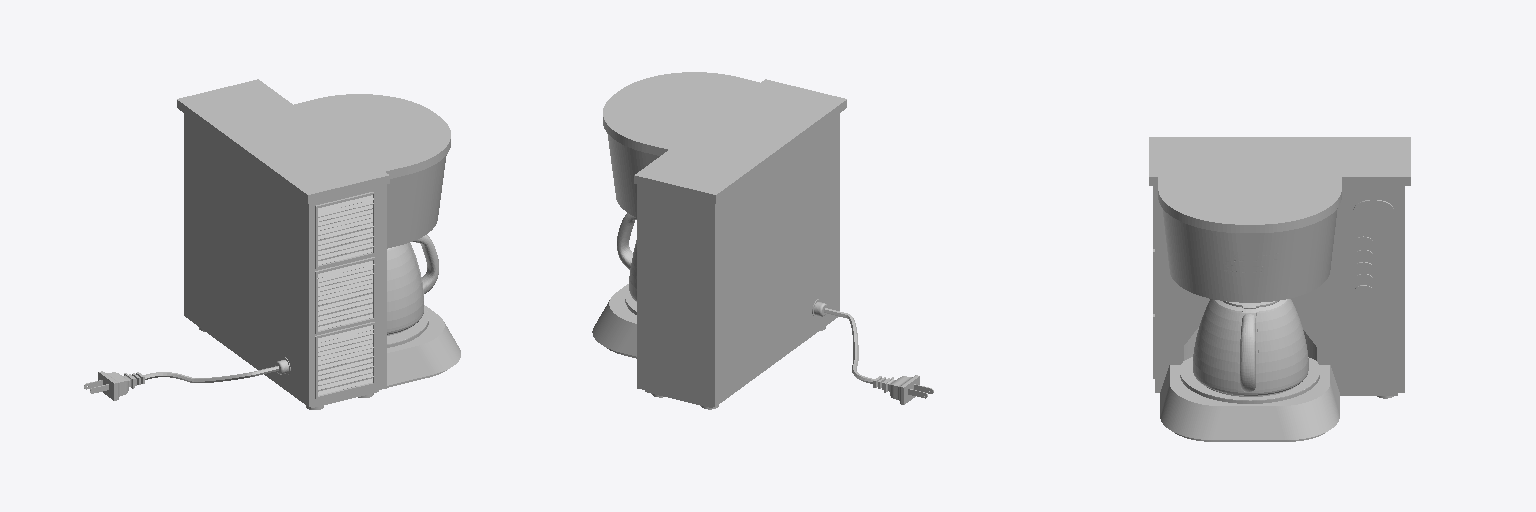
The model's file is CoffeeMaker.obj.
3 views of the same model, side by side, from view 1: azimuth 30°, elevation 25°; view 2: azimuth 150°, elevation 25°; view 3: azimuth 270°, elevation 25° (orthographic).
Visible parts, largest first — view 1: Cube, Cube.005_Cube.020, Cube.003_Cube.004, Cube.006_Cube.023, BezierCurve; view 2: Cube, Cube.006_Cube.023, Cube.003_Cube.004, BezierCurve; view 3: Cube, Cube.003_Cube.004, Cylinder.005_Cylinder.011.
Part boxes in pixels (x1,y1,x2,y2): Cube: (177, 79, 460, 409); Cube.005_Cube.020: (315, 192, 374, 398); Cube.003_Cube.004: (387, 235, 438, 335); Cube.006_Cube.023: (84, 371, 144, 400); BezierCurve: (143, 366, 278, 382); Cube: (592, 72, 846, 409); Cube.006_Cube.023: (873, 375, 933, 404); Cube.003_Cube.004: (617, 213, 636, 301); BezierCurve: (824, 308, 874, 383); Cube: (1149, 137, 1410, 441); Cube.003_Cube.004: (1193, 299, 1308, 396); Cylinder.005_Cylinder.011: (1353, 200, 1393, 221).
Bounding box in the file's own units: 4.76 × 3.08 × 3.27.